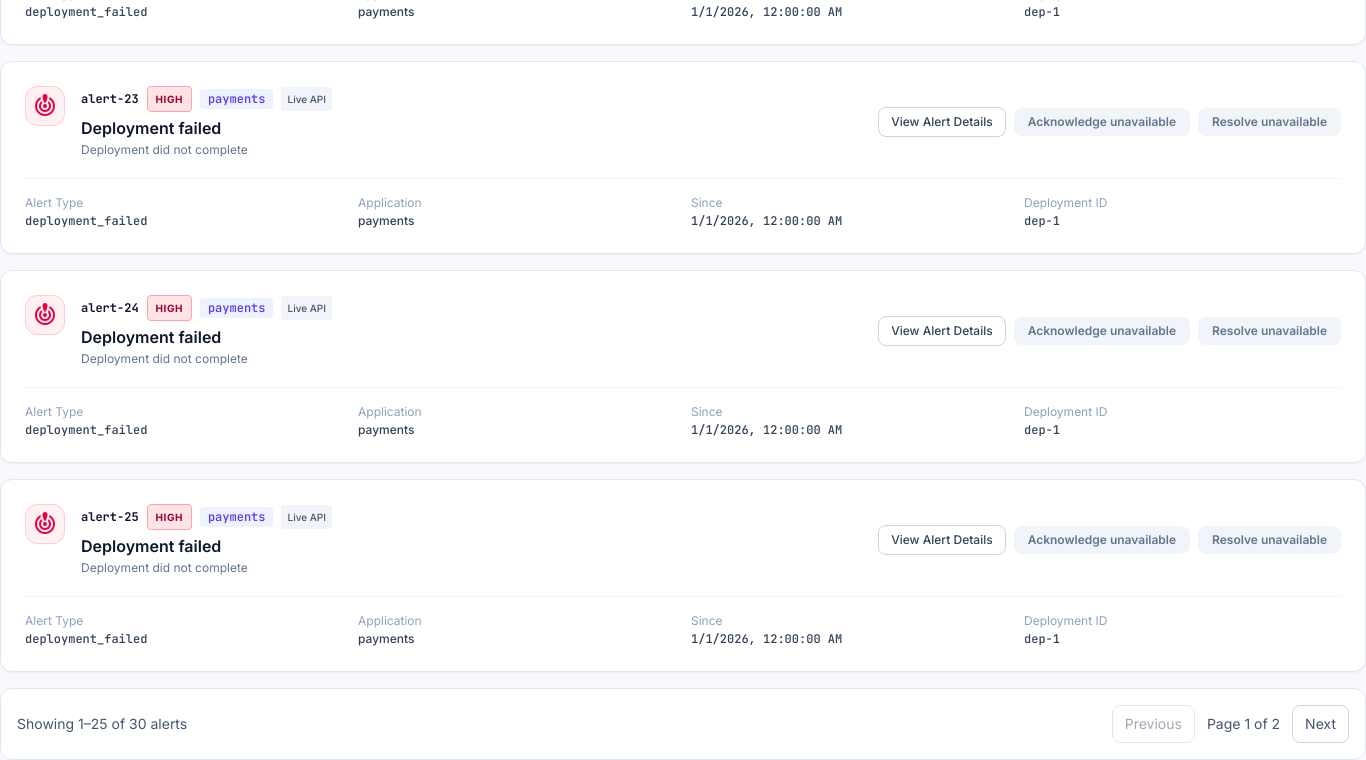
Test: AlertsPage › loads the next server page and reports the API total
(page scrolled)
Expected: the text "Page 1 of 2" is shown, left=1207, top=714, right=1280, bottom=734
Expected: the text "Showing 1–25 of 30 alerts" is shown, left=17, top=714, right=187, bottom=734
Click the button with aria-label "Next page" at (1321, 724), box left=1292, top=705, right=1349, bottom=743
(page scrolled)
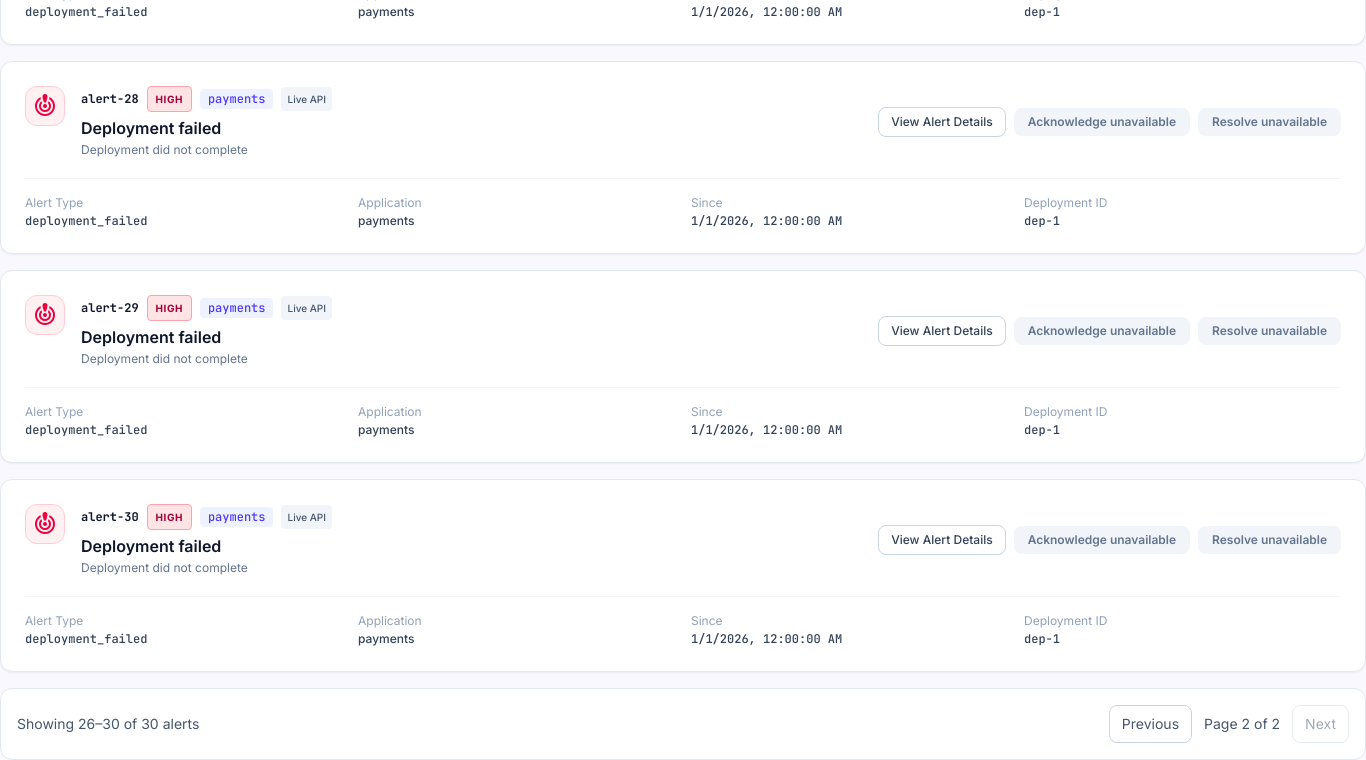
Now the text "Page 2 of 2" is shown, box left=1204, top=714, right=1280, bottom=734
Now the text "Showing 26–30 of 30 alerts" is shown, box left=17, top=714, right=199, bottom=734
